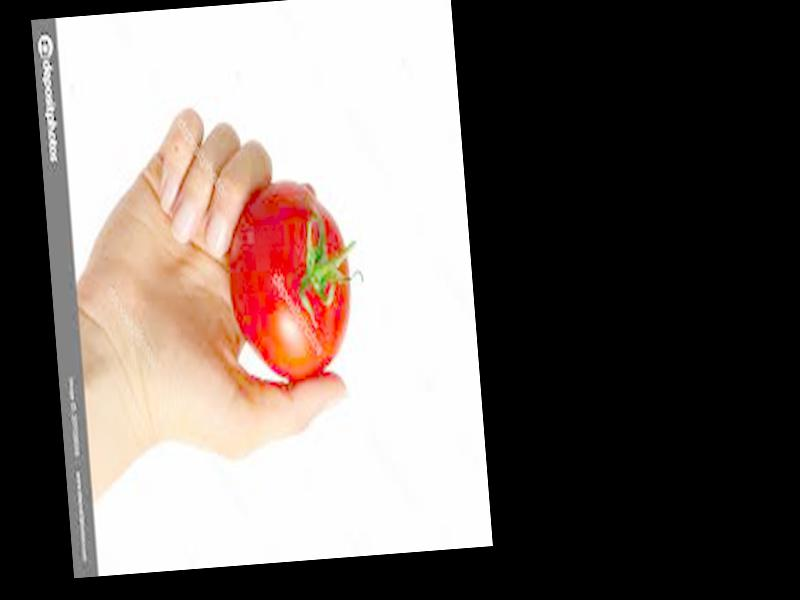Tomato: (221, 180, 358, 384)
